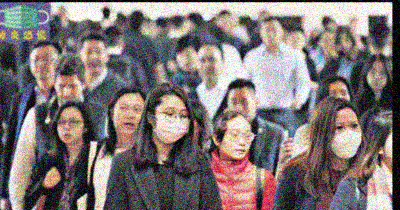with_mask: (153, 104, 189, 145), (330, 118, 362, 157)
without_mask: (219, 126, 252, 159), (112, 101, 142, 135), (56, 114, 83, 143), (29, 52, 55, 80), (228, 93, 254, 121), (80, 46, 104, 74), (198, 53, 220, 81), (55, 81, 80, 103), (366, 65, 388, 90), (259, 24, 281, 46), (175, 51, 197, 71), (336, 37, 353, 54)
